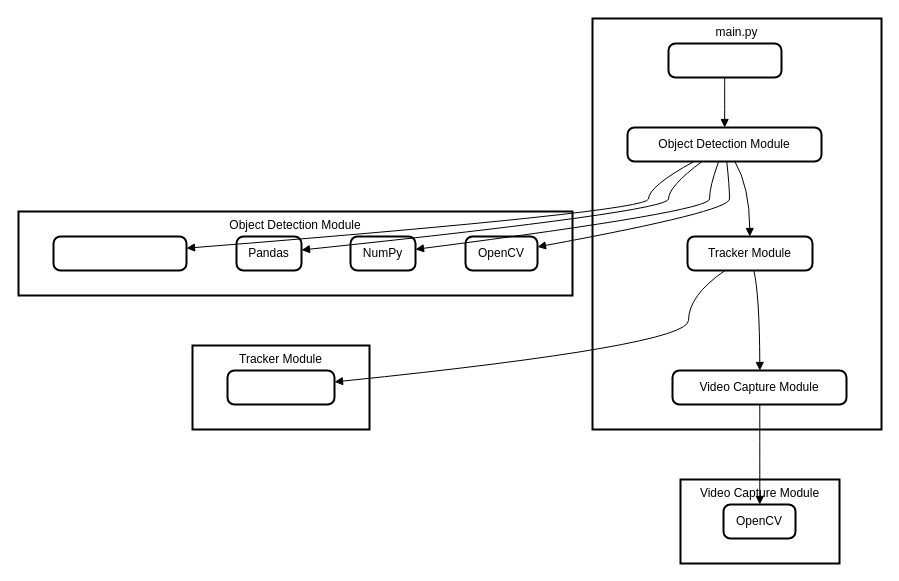
Image size: 899x581. Some labels were removed from this diagram. Each missing label, with the centre of its shape:
Main Program: the point at 724,60
Math Library: the point at 280,387
Ultralytics YOLO: the point at 119,253
